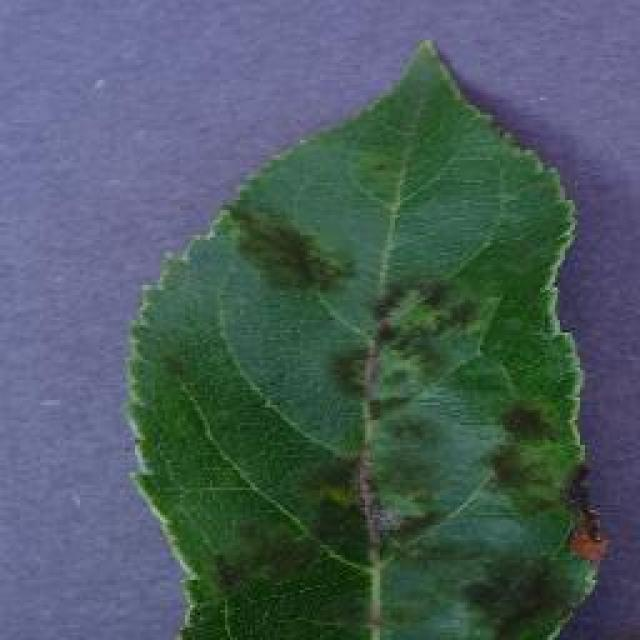apple scab disease: (120, 35, 610, 637)
